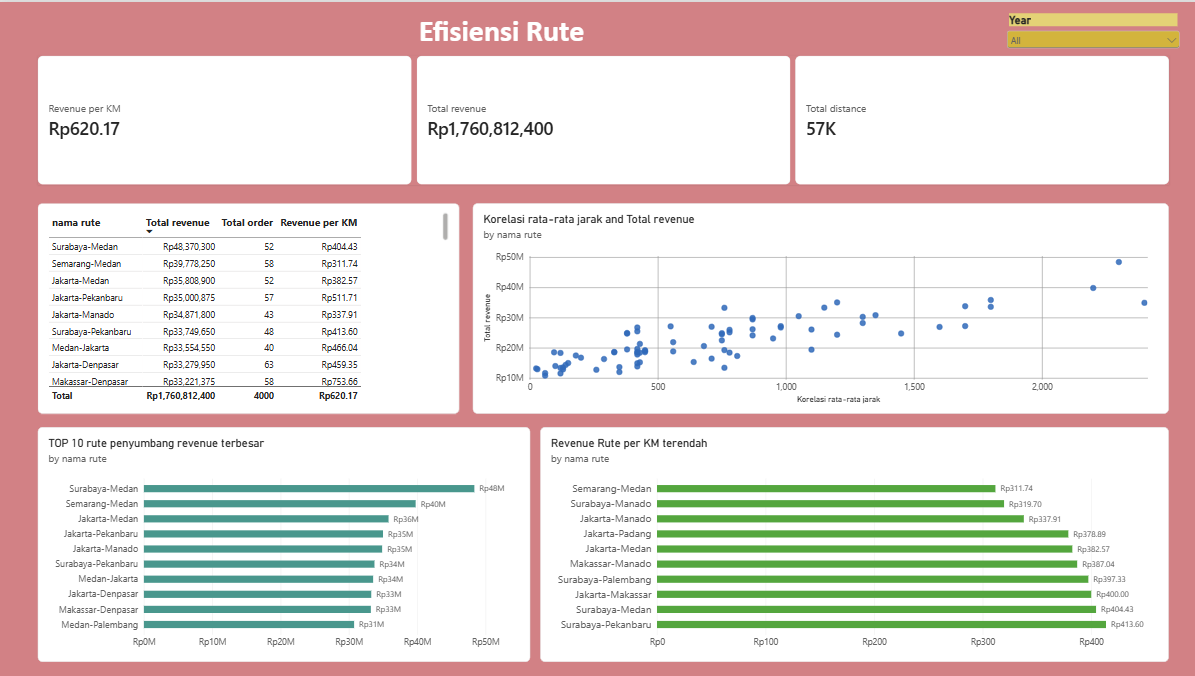

The dashboard page shown, as its layout file describes it:
{"tool":"powerbi","page":{"name":"Efisiensi Rute","canvas":[1920,1080],"ordinal":3},"visuals":[{"type":"textbox","box":[672.8,15.6,387.7,71.3],"z":0},{"type":"cardVisual","fields":{"Data":["measure.Revenue per KM","measure.Total revenue","measure.Total distance"]},"box":[61.5,85.7,1810.1,206.7],"z":1000},{"type":"barChart","fields":{"Category":["routes.nama rute"],"Y":["measure.Total revenue"]},"box":[61.5,679.7,787.7,376.2],"z":2000},{"type":"tableEx","fields":{"Values":["routes.nama rute","measure.Total revenue","measure.Total order","measure.Revenue per KM"]},"box":[61.5,322.2,674.1,337.1],"z":3000},{"type":"scatterChart","fields":{"Category":["routes.nama rute"],"X":["routes.distance_km"],"Y":["measure.Total revenue"]},"box":[757.9,322.2,1113.6,337.1],"z":4000},{"type":"barChart","fields":{"Category":["routes.nama rute"],"Y":["measure.Revenue per KM"]},"box":[866,679.7,1005.6,376.2],"z":5000},{"type":"slicer","fields":{"Values":["shipments.pickup_date.Variation.Date Hierarchy.Year"]},"box":[1608.8,18.1,285.9,95.9],"z":6000}]}

Visuals, with their boxes in screenshot pixels (x1, y1, x2, y2), scaled from the page's 1920x1080 canvas onto the 1195x676 screenshot:
textbox: (left=419, top=10, right=660, bottom=54)
cardVisual - measure.Revenue per KM x measure.Total revenue: (left=38, top=54, right=1165, bottom=183)
barChart - routes.nama rute x measure.Total revenue: (left=38, top=425, right=529, bottom=661)
tableEx - routes.nama rute x measure.Total revenue: (left=38, top=202, right=458, bottom=413)
scatterChart - routes.nama rute x routes.distance_km: (left=472, top=202, right=1165, bottom=413)
barChart - routes.nama rute x measure.Revenue per KM: (left=539, top=425, right=1165, bottom=661)
slicer - shipments.pickup_date.Variation.Date Hierarchy.Year: (left=1001, top=11, right=1179, bottom=71)
